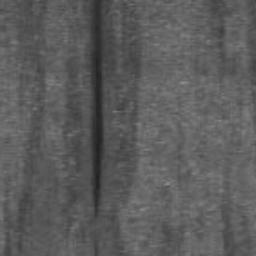Scratches: (91, 0, 103, 219)
